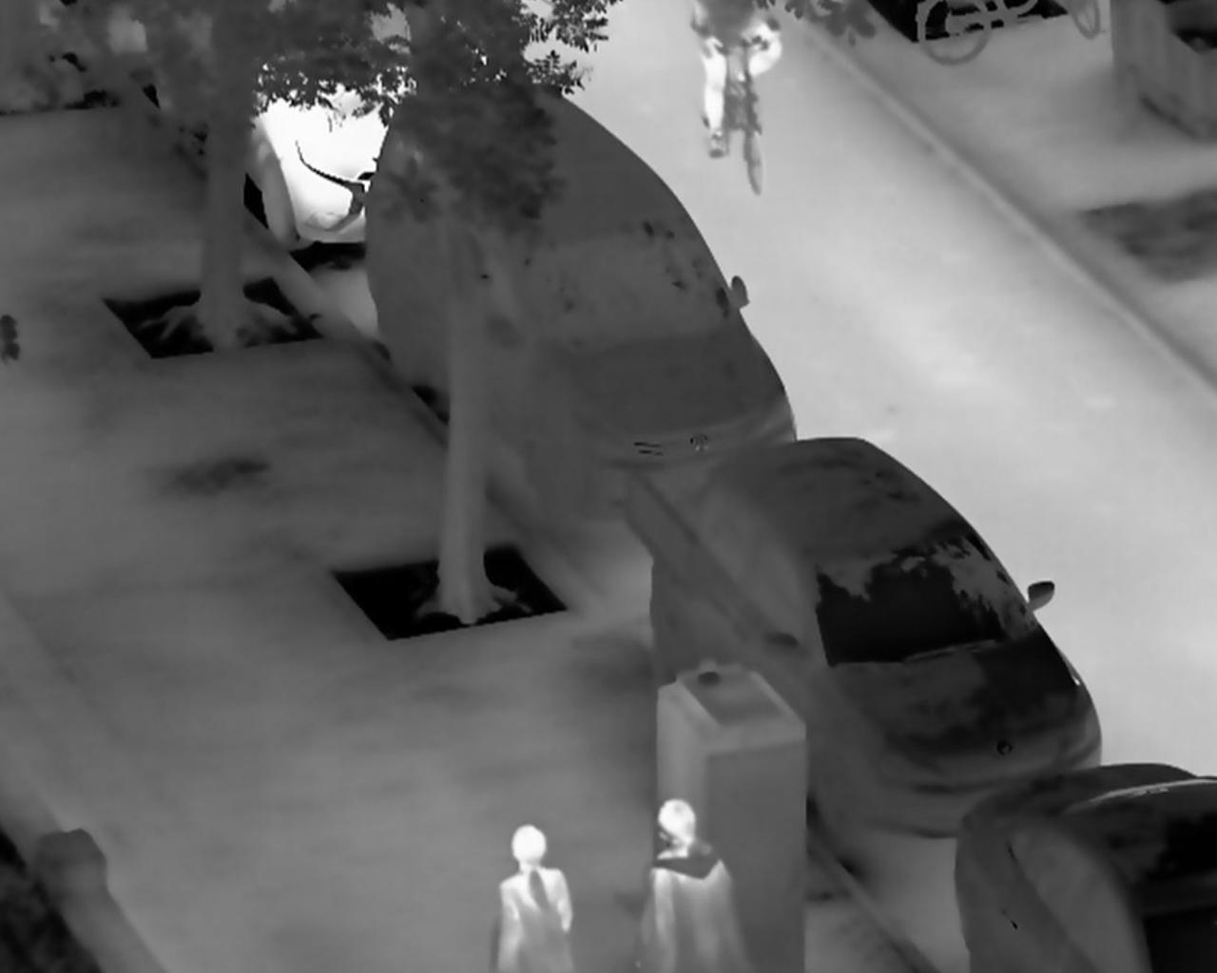person: (635, 796, 754, 973), (489, 821, 574, 973)
